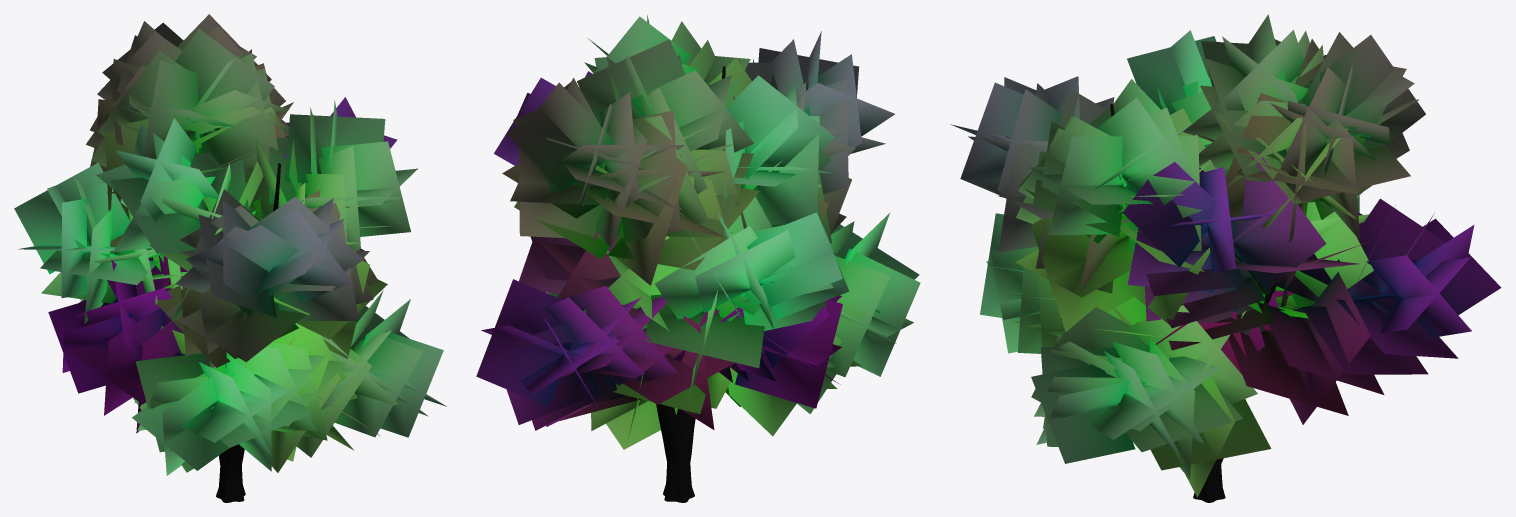
File: Tree15_V.fbx
3 renders of one model, left to right at view 1: azimuth 30°, elevation 25°; view 2: azimuth 150°, elevation 25°; view 3: azimuth 270°, elevation 25°, orthographic. The views are drawn at different scales.
Parts seen in each view (by area): view 1: Tree_1, Tree_0; view 2: Tree_1, Tree_0; view 3: Tree_1, Tree_0.
Boxes of the visible parts, <box> form: Tree_1: <box>14,14,446,475</box>; Tree_0: <box>195,137,280,502</box>; Tree_1: <box>476,15,920,449</box>; Tree_0: <box>553,66,774,502</box>; Tree_1: <box>950,14,1501,497</box>; Tree_0: <box>1110,103,1396,502</box>.
Bounding box in the file's own units: 346 × 419 × 446.
